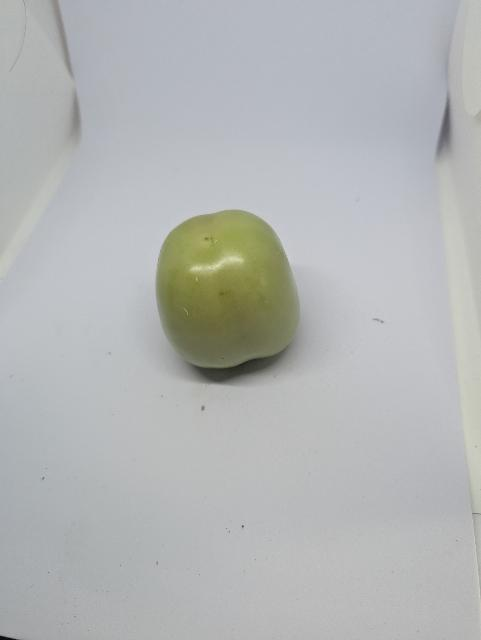green: (137, 202, 305, 378)
